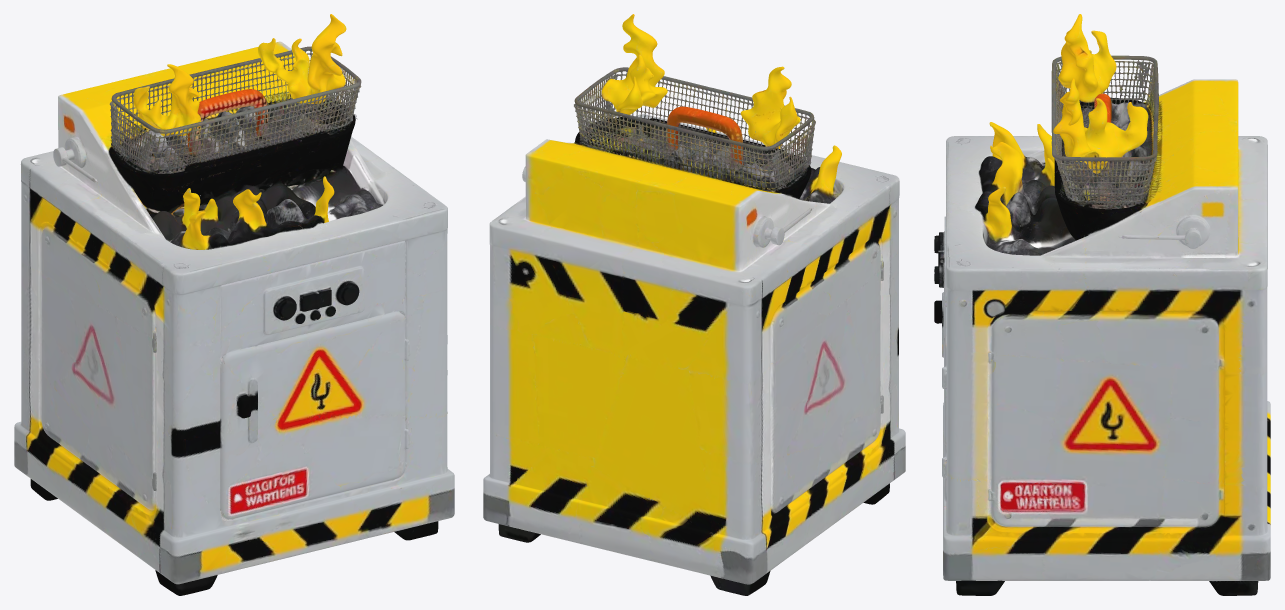
The model's file is hot_crate.glb.
The picture shows the model from 3 angles, left to right: view 1: azimuth 30°, elevation 25°; view 2: azimuth 150°, elevation 25°; view 3: azimuth 270°, elevation 25°; orthographic projection. The views are drawn at different scales.
Bounding box in the file's own units: 1.15 × 1.9 × 1.17.
1 material, 1 textured.
